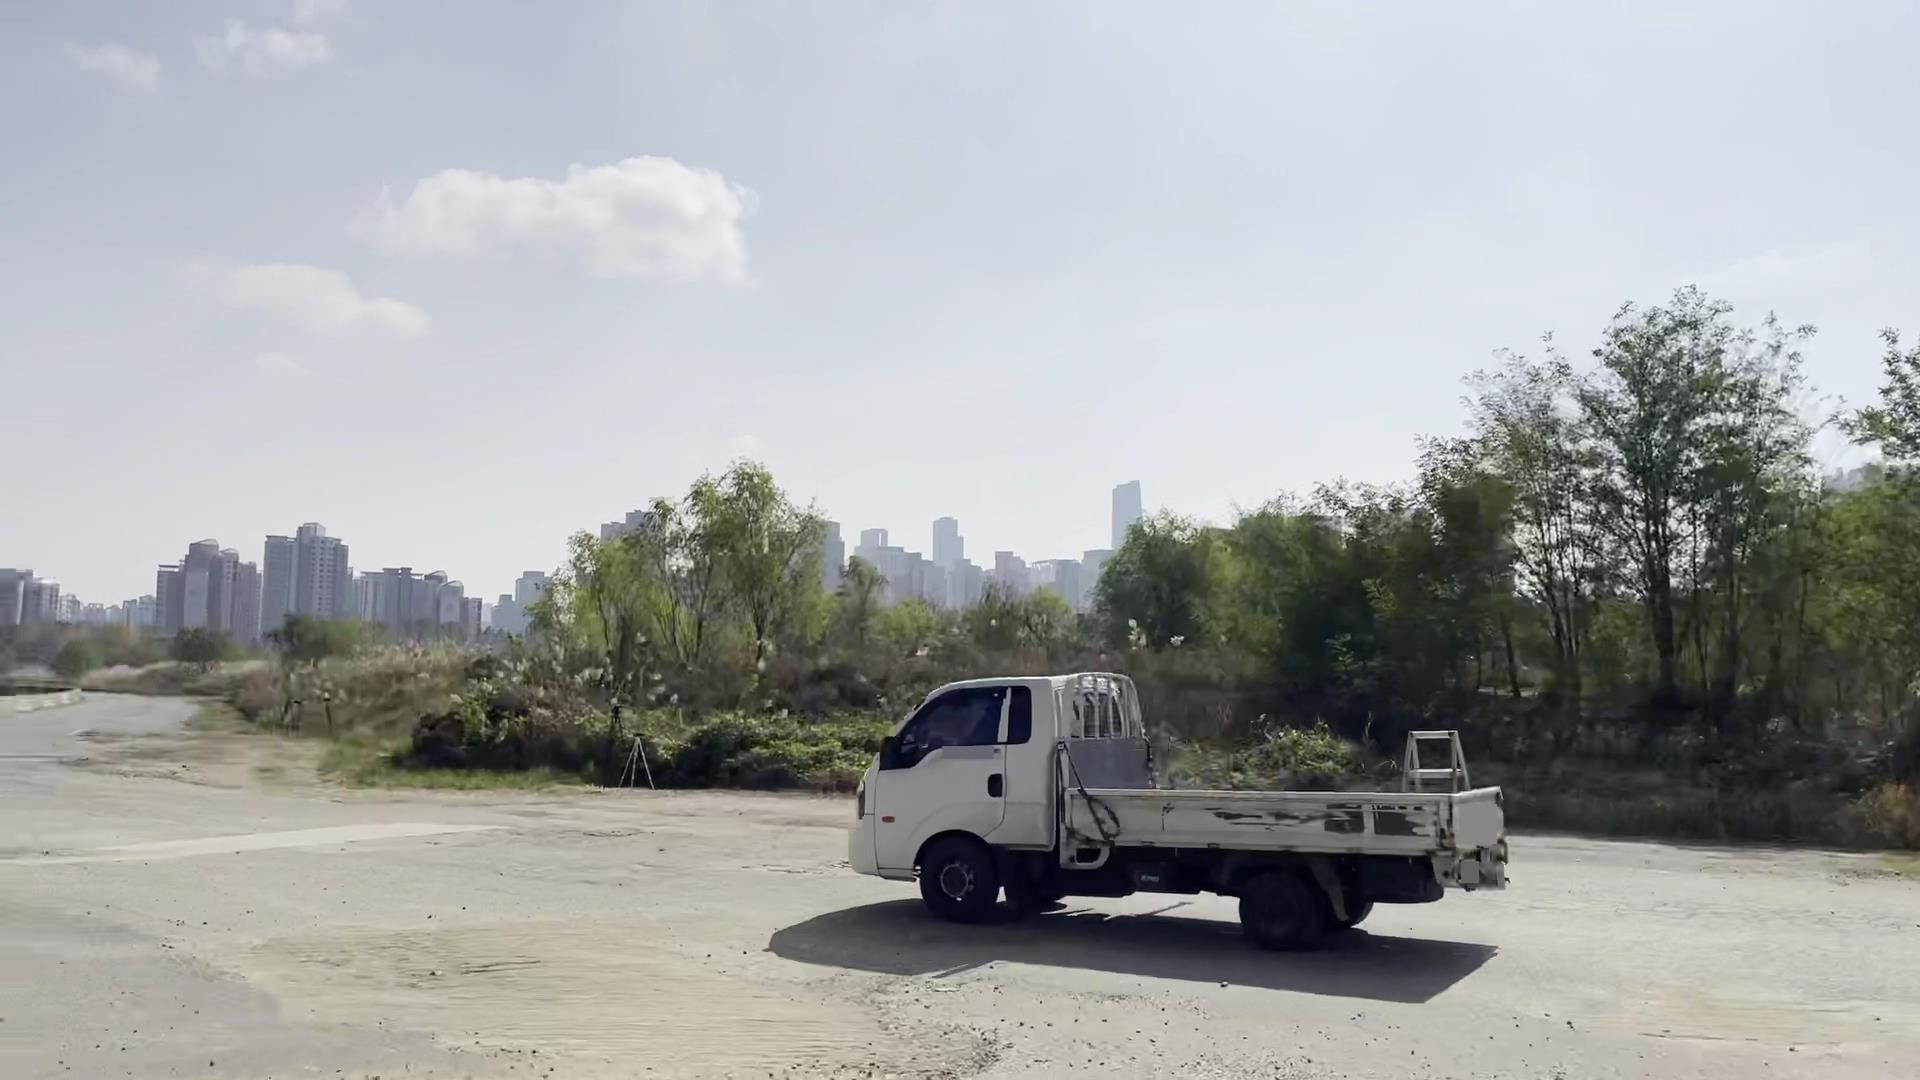불법차량: (847, 673, 1505, 954)
